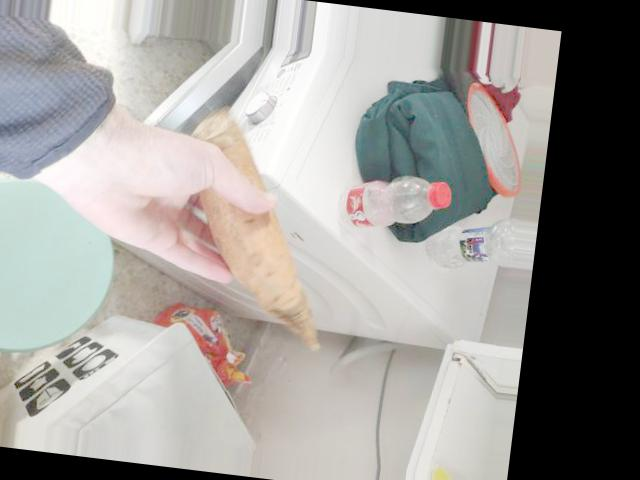sweet_potato: (189, 162, 322, 298)
